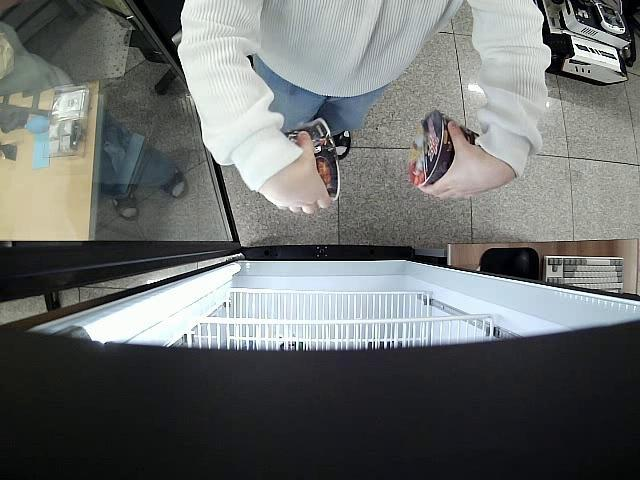07_buldak_L: (408, 108, 481, 188), (280, 117, 342, 202)
